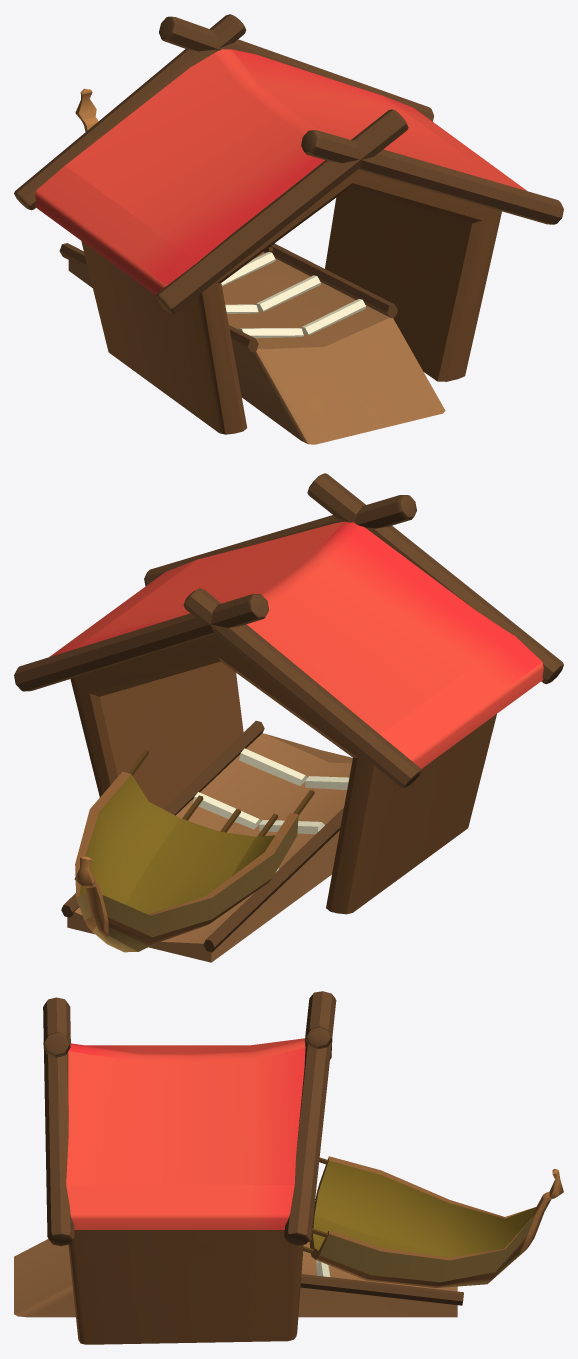
The model's file is ShipBase.fbx.
The picture shows the model from 3 angles, top to bottom: view 1: azimuth 30°, elevation 25°; view 2: azimuth 150°, elevation 25°; view 3: azimuth 270°, elevation 25°; orthographic projection. The views are drawn at different scales.
Parts seen in each view (by area): view 1: House, Trap, Ship; view 2: House, Ship, Trap; view 3: House, Ship, Trap.
Part boxes in pixels (bbox=[...]): House: bbox=[14, 14, 563, 434]; Trap: bbox=[59, 243, 445, 444]; Ship: bbox=[75, 88, 272, 251]; House: bbox=[14, 473, 563, 914]; Ship: bbox=[74, 749, 314, 952]; Trap: bbox=[61, 721, 352, 962]; House: bbox=[43, 991, 336, 1344]; Ship: bbox=[303, 1156, 563, 1287]; Trap: bbox=[14, 1239, 463, 1317].
Bounding box in the file's own units: 235 × 169 × 300.
